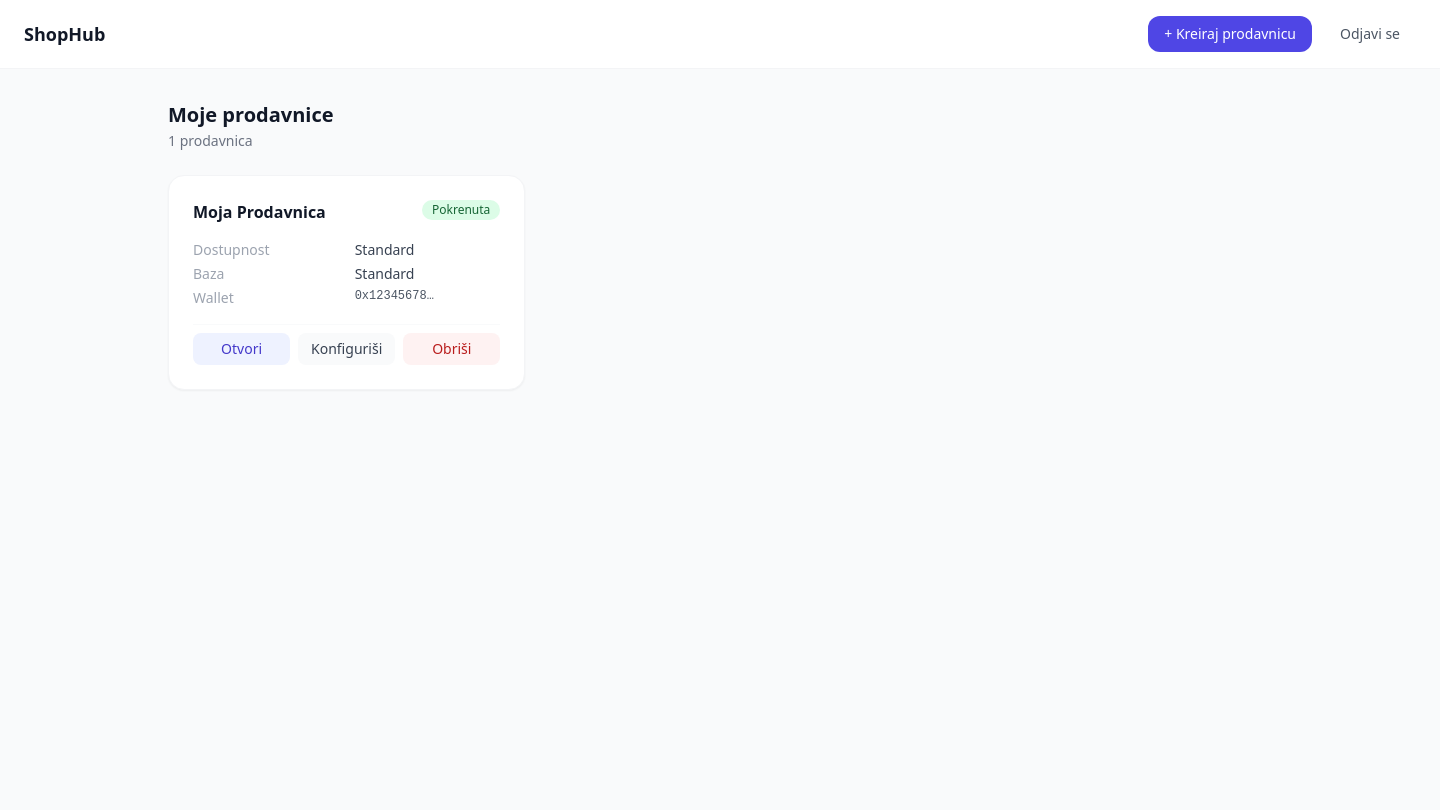
Test case: DashboardPage › opens configure modal when Konfiguriši is clicked
The width and height of the screenshot is (1440, 810).
Click the button "Konfiguriši".
click(347, 349)  # box [298,333,395,365]
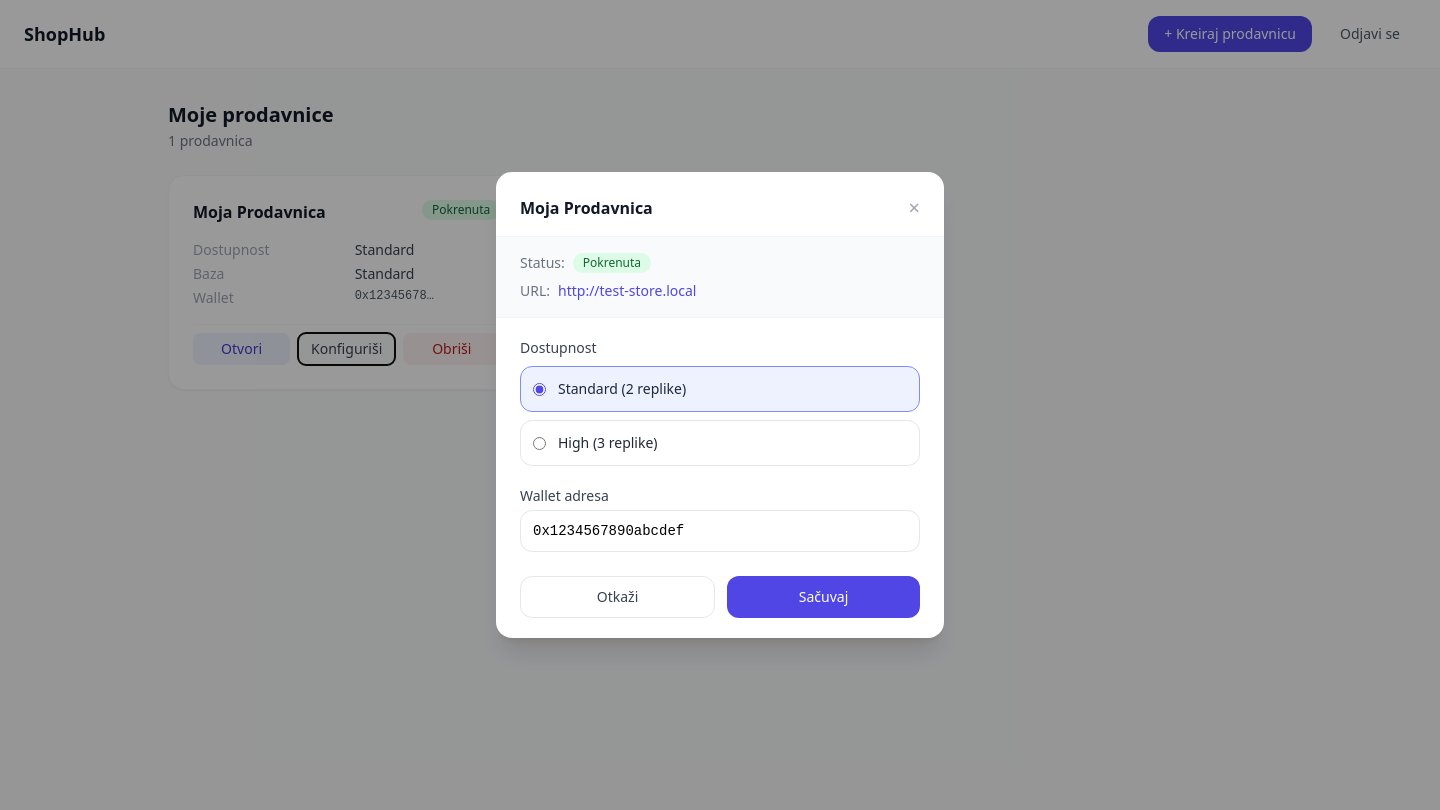
Expected: the button "Sačuvaj" is shown, [727,576,920,618]
